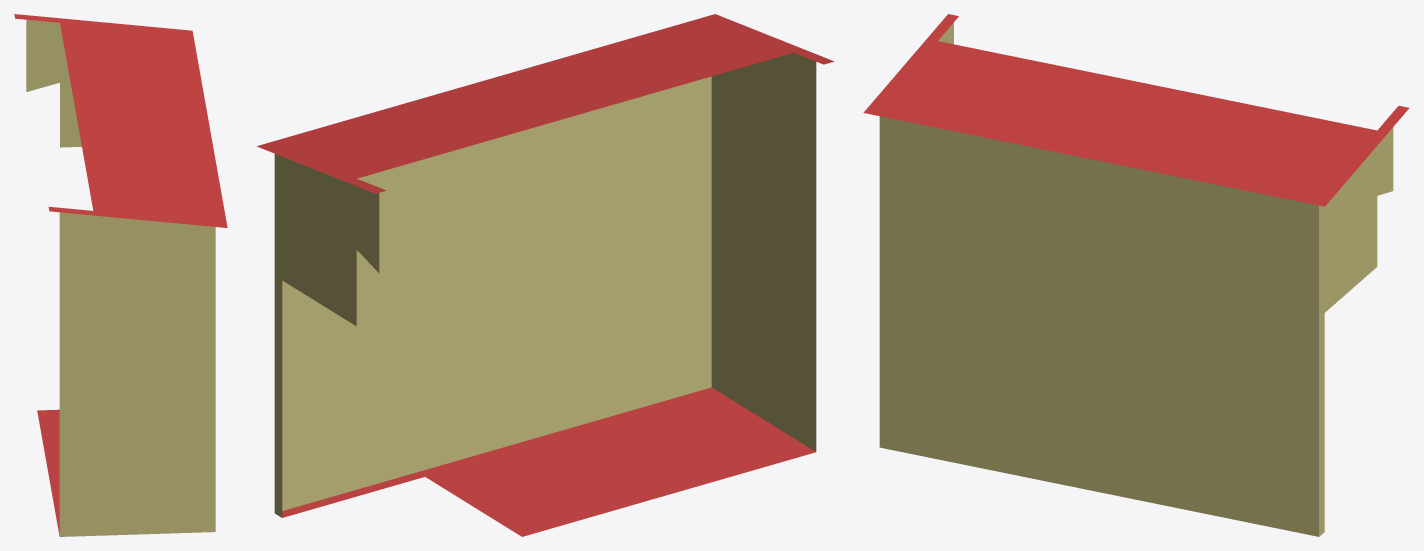
3 views of the same model, side by side, from view 1: azimuth 30°, elevation 25°; view 2: azimuth 150°, elevation 25°; view 3: azimuth 270°, elevation 25° (orthographic). The views are drawn at different scales.
Bounding box in the file's own units: 8.15 × 11.18 × 8.16.
